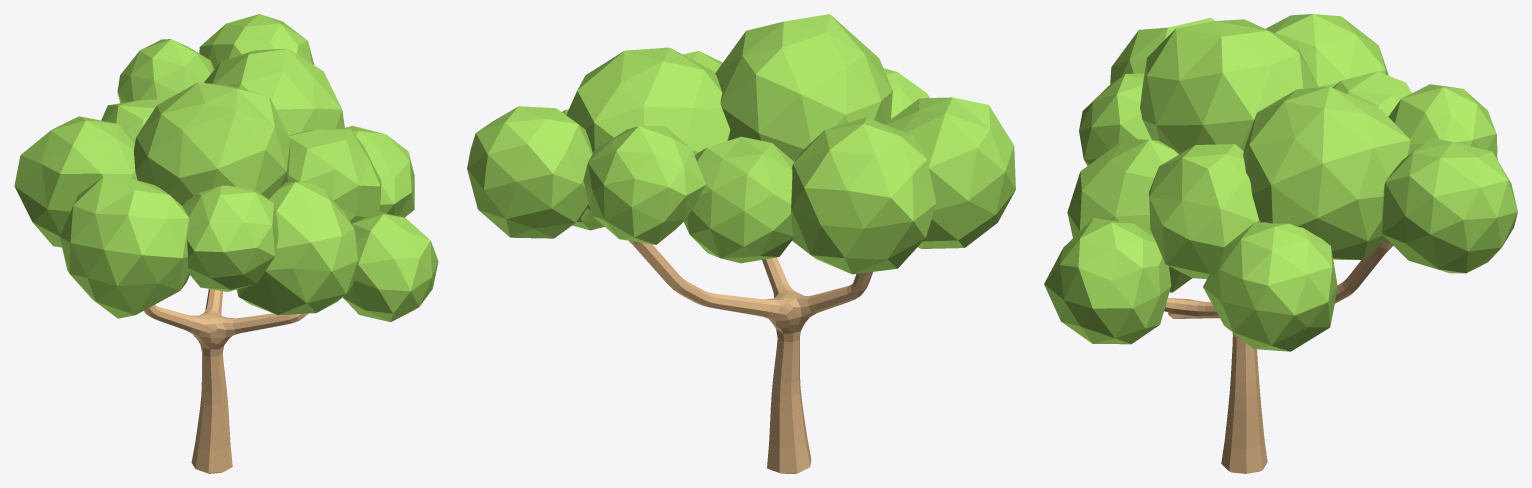
File: Tree1.fbx
3 views of the same model, side by side, from view 1: azimuth 30°, elevation 25°; view 2: azimuth 150°, elevation 25°; view 3: azimuth 270°, elevation 25° (orthographic). The views are drawn at different scales.
Parts seen in each view (by area): view 1: Icosphere.003; view 2: Icosphere.003; view 3: Icosphere.003.
Part boxes in pixels (box(x1,y1,x2,y2)): Icosphere.003: box(14, 14, 438, 473); Icosphere.003: box(467, 14, 1015, 473); Icosphere.003: box(1044, 14, 1517, 473).
Bounding box in the file's own units: 1143 × 1115 × 1093.
